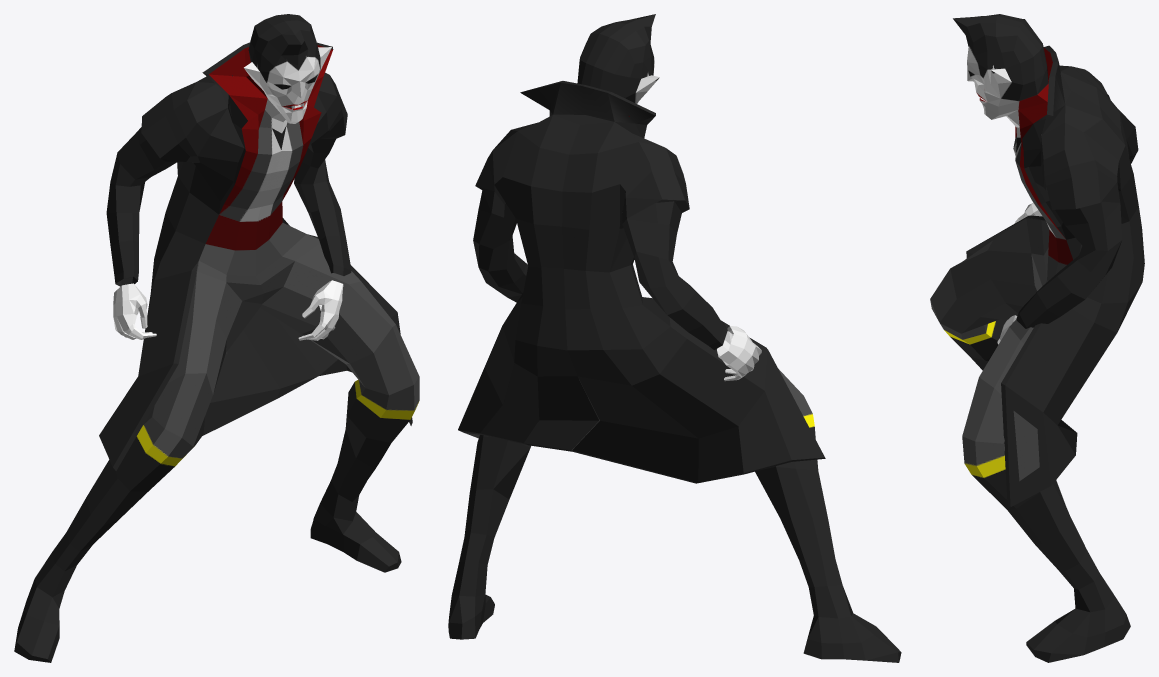
Rendered from VampireAttack(106).obj.
3 views of the same model, side by side, from view 1: azimuth 30°, elevation 25°; view 2: azimuth 150°, elevation 25°; view 3: azimuth 270°, elevation 25° (orthographic). The views are drawn at different scales.
Parts seen in each view (by area): view 1: Plane002; view 2: Plane002; view 3: Plane002.
Boxes of the visible parts, <box> form: Plane002: <box>14,14,419,662</box>; Plane002: <box>448,14,901,662</box>; Plane002: <box>930,14,1144,662</box>.
Bounding box in the file's own units: 206 × 284 × 95.5.
